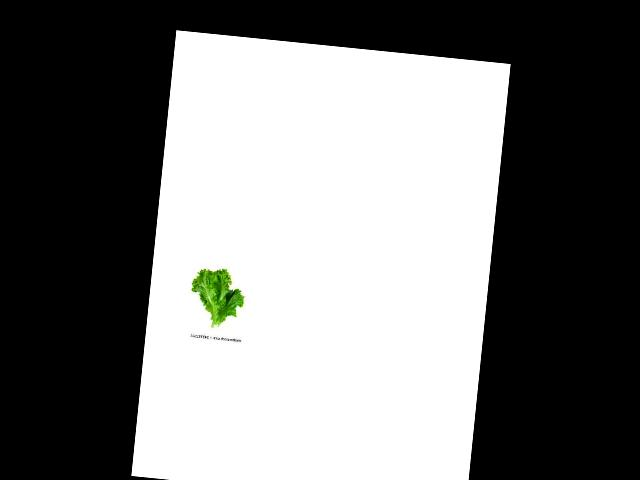lettuce: (187, 264, 248, 334)
